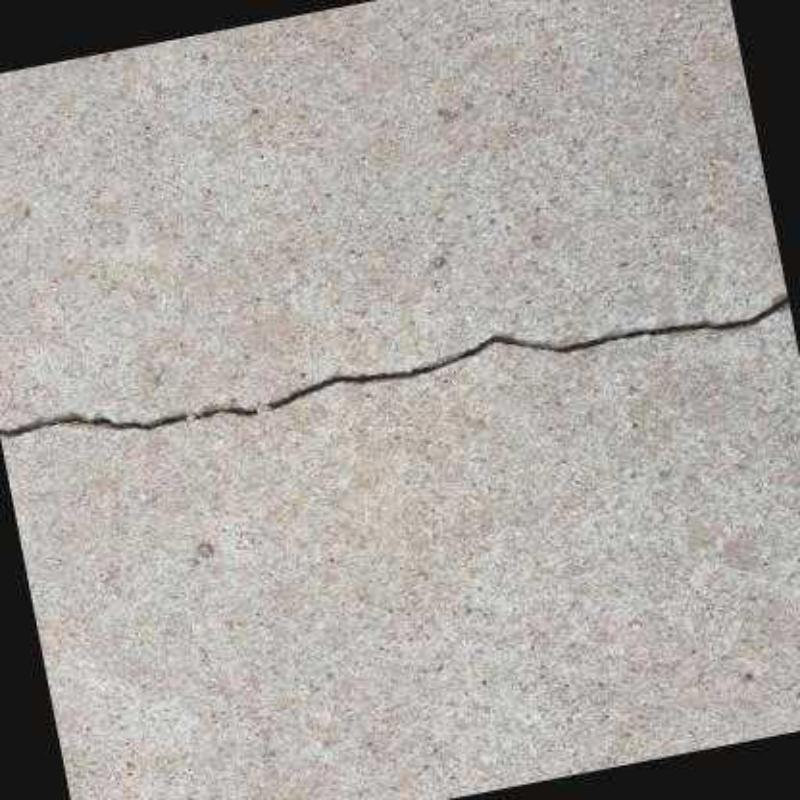pothole: (0, 295, 788, 436)
